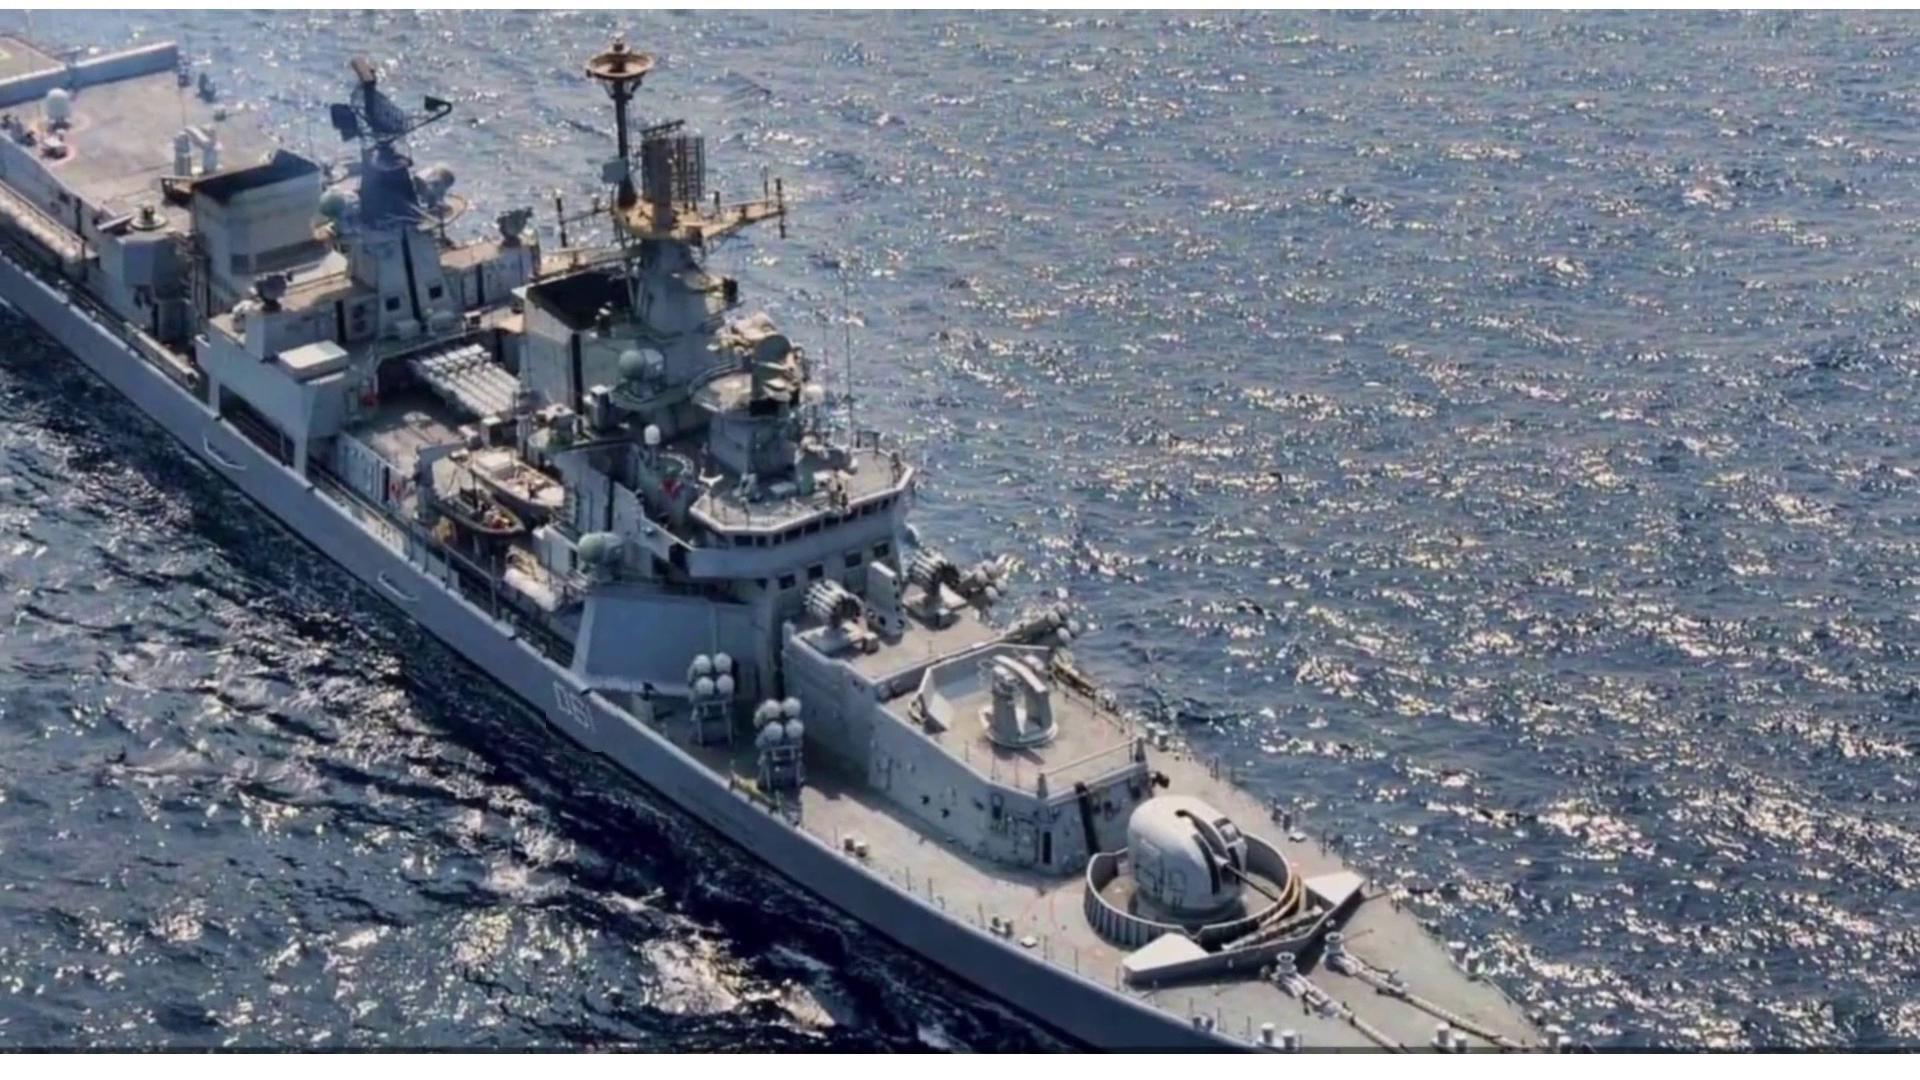OCR: (546, 673, 624, 753)
